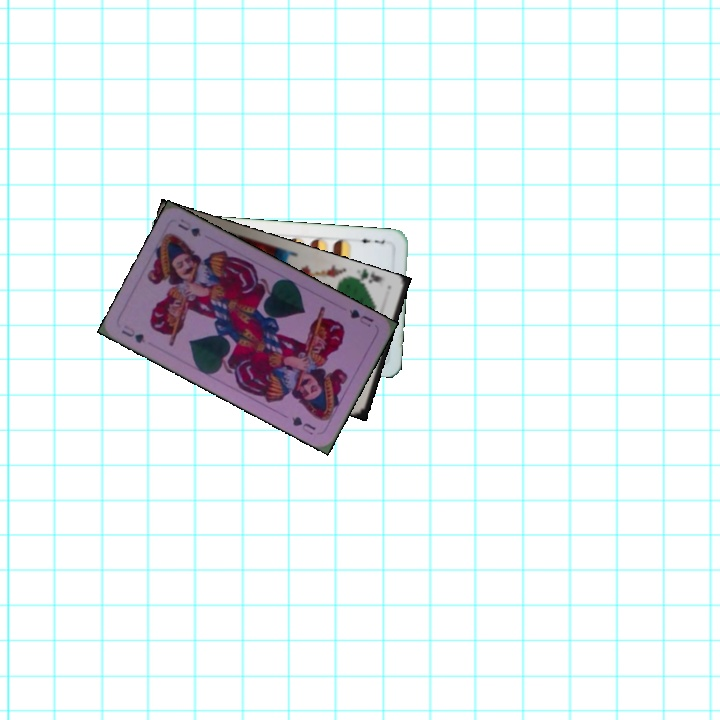E7: (353, 233, 388, 247)
GK: (351, 267, 385, 288)
GU: (344, 305, 376, 330), (117, 321, 148, 346)
